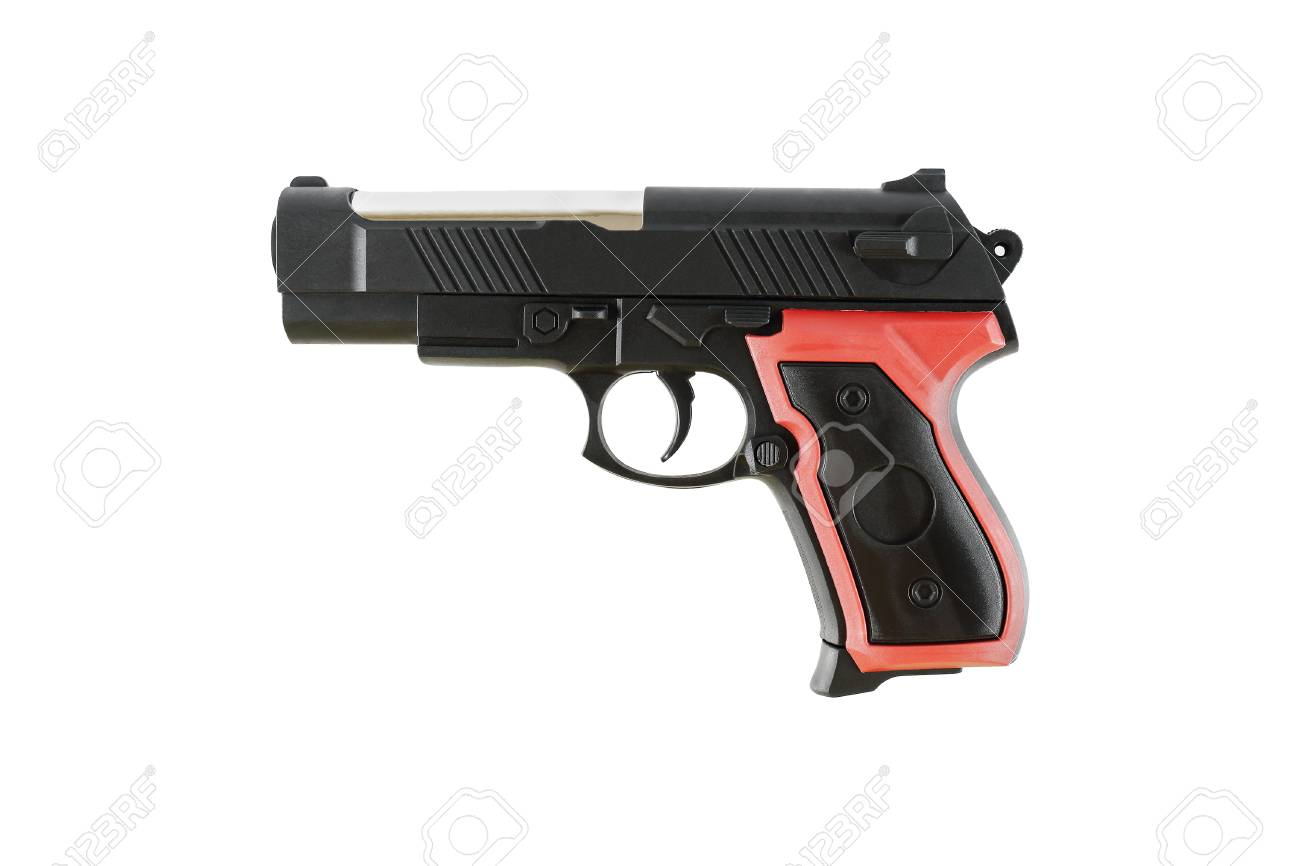Arma Falsa: (272, 166, 1047, 707)
